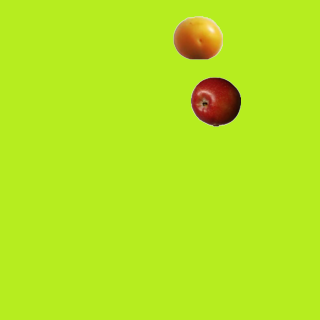Apple Braeburn: (190, 76, 240, 126)
Cherry Wax Yellow: (172, 12, 222, 62)
